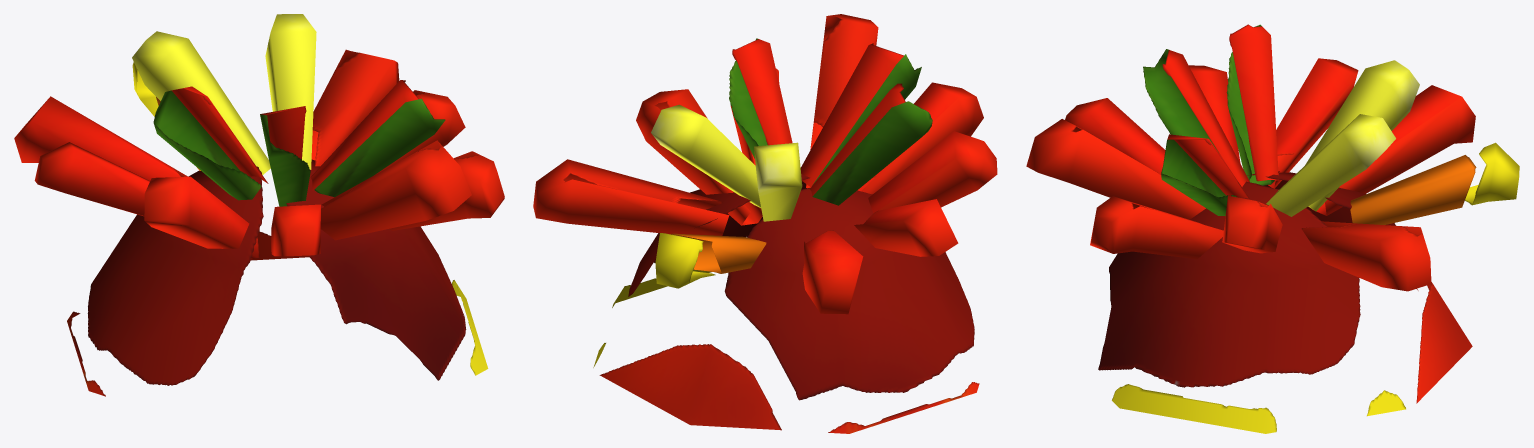
File: LOD1_anemone_polluee.fbx
3 views of the same model, side by side, from view 1: azimuth 30°, elevation 25°; view 2: azimuth 150°, elevation 25°; view 3: azimuth 270°, elevation 25° (orthographic). The views are drawn at different scales.
Parts seen in each view (by area): view 1: anemone_polluee_LOD1; view 2: anemone_polluee_LOD1; view 3: anemone_polluee_LOD1.
Part boxes in pixels (x1,y1,x2,y2): anemone_polluee_LOD1: [14, 14, 504, 396]; anemone_polluee_LOD1: [533, 14, 997, 433]; anemone_polluee_LOD1: [1026, 24, 1519, 433].
Size of the model in its own units: 91.24 by 63.33 by 102.
